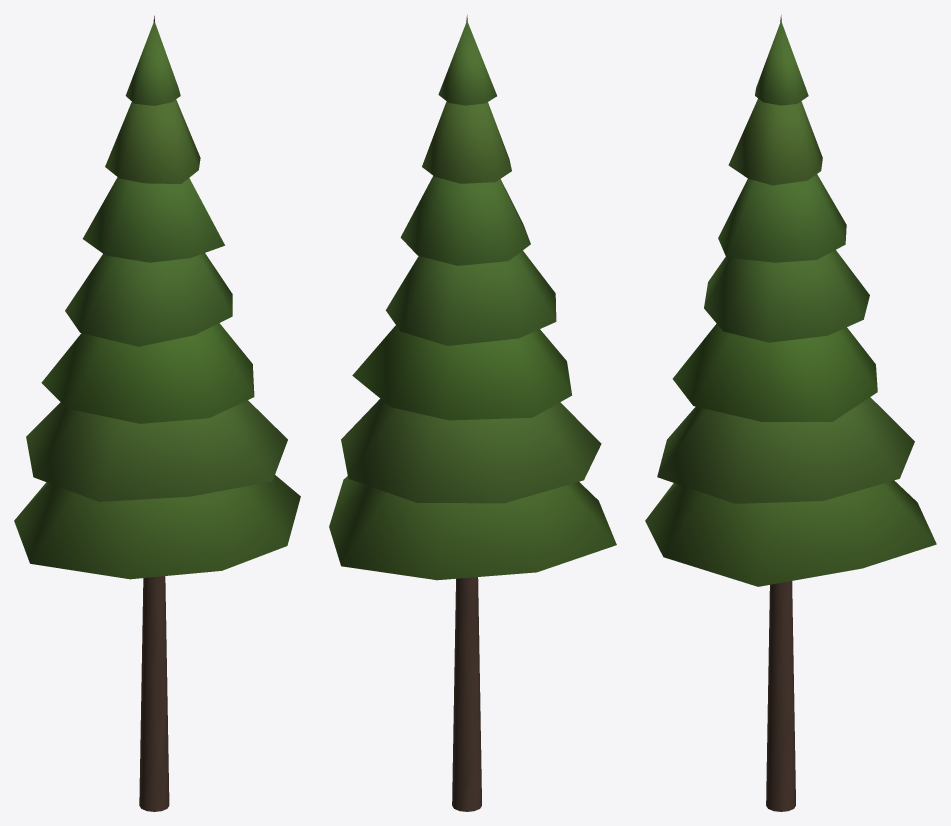
The model's file is SM_TreeFar_larch_2.glb.
The picture shows the model from 3 angles, left to right: view 1: azimuth 30°, elevation 25°; view 2: azimuth 150°, elevation 25°; view 3: azimuth 270°, elevation 25°; orthographic projection.
Visible parts, largest first — view 1: SM_TreeFar_larch_2; view 2: SM_TreeFar_larch_2; view 3: SM_TreeFar_larch_2.
Part boxes in pixels (bbox=[...]): SM_TreeFar_larch_2: bbox=[14, 15, 300, 811]; SM_TreeFar_larch_2: bbox=[329, 15, 616, 811]; SM_TreeFar_larch_2: bbox=[645, 15, 936, 811].
Size of the model in its own units: 6.6 by 18.35 by 6.13.
